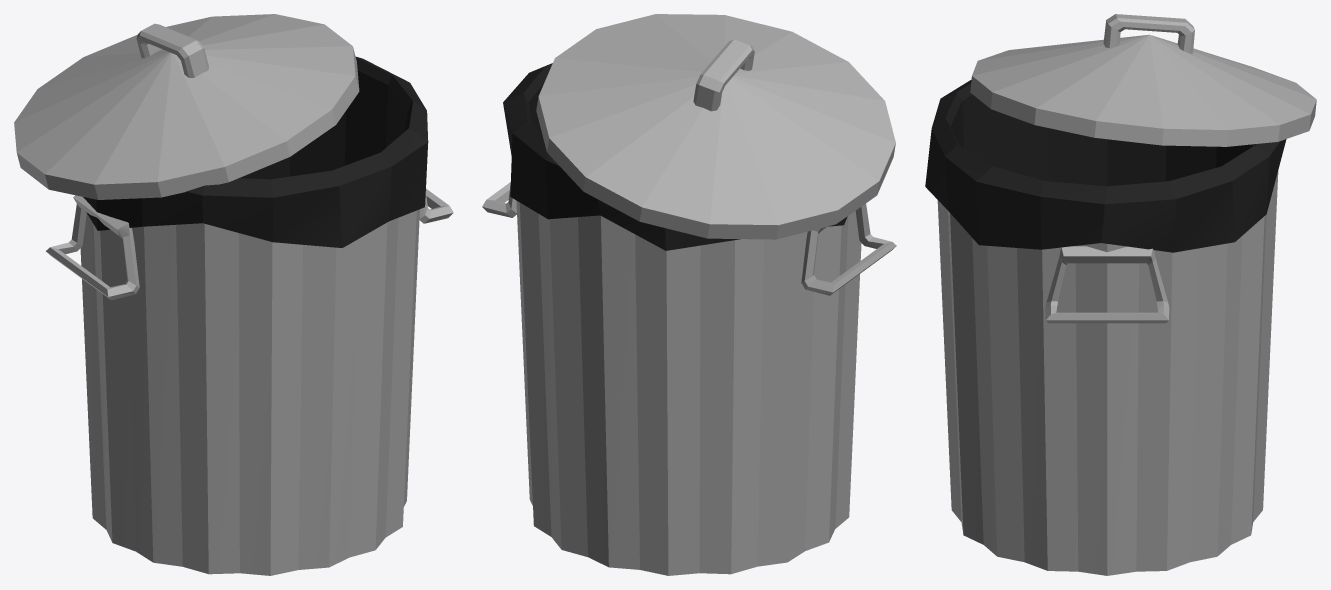
Rendered from SM_trash_bin_1a.gltf.
3 views of the same model, side by side, from view 1: azimuth 30°, elevation 25°; view 2: azimuth 150°, elevation 25°; view 3: azimuth 270°, elevation 25° (orthographic). The views are drawn at different scales.
Parts seen in each view (by area): view 1: SM_trash_bin_1a; view 2: SM_trash_bin_1a; view 3: SM_trash_bin_1a.
Boxes of the visible parts, x1,y1,x2,y2 form: SM_trash_bin_1a: (14,14,453,575); SM_trash_bin_1a: (482,14,896,575); SM_trash_bin_1a: (925,14,1316,575).
Bounding box in the file's own units: 1 × 1.24 × 0.9401.
1 material, 1 textured.
